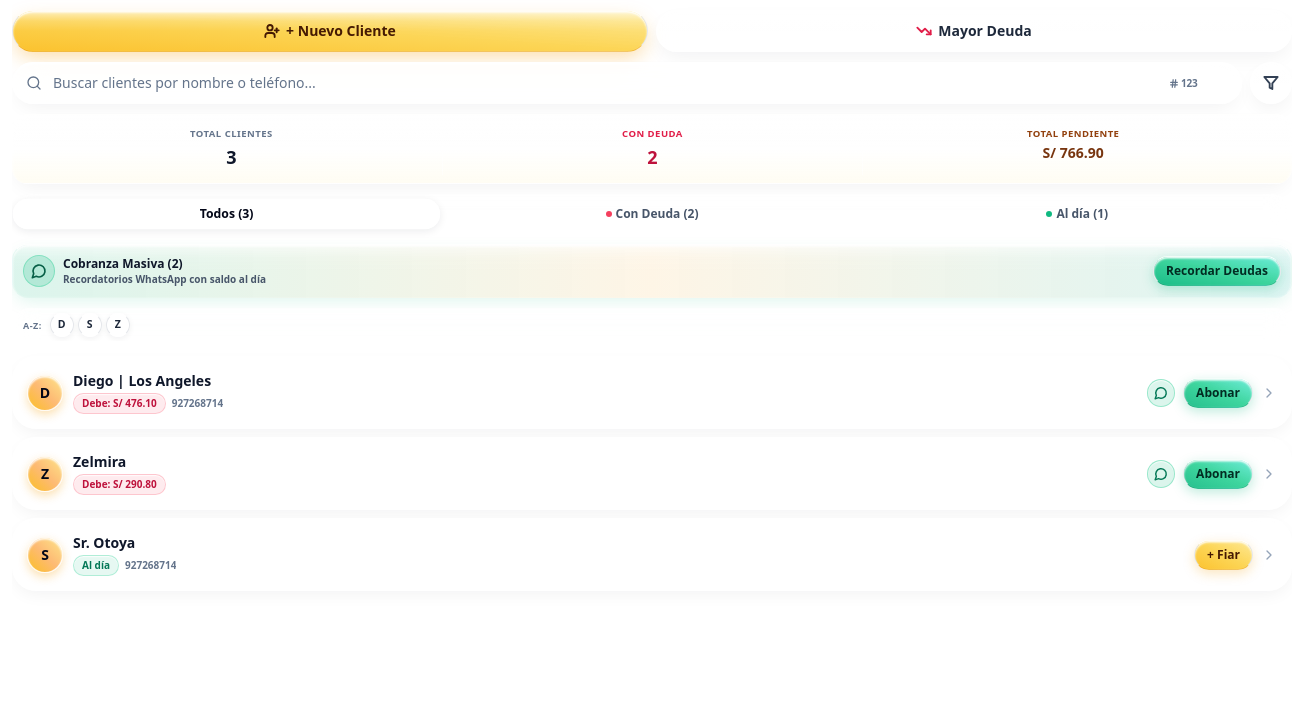
Scenario: CustomersPage Component (Strict TDD) › Tab Filters (Todos, Con Deuda, Al día) › filters only debtors when "Con Deuda" tab is active
expect the text "Diego | Los Angeles" is shown: met, box x1=73 y1=371 x2=223 y2=391
Click the button "Con Deuda (2)". click: (652, 214)
box: x1=442 y1=199 x2=862 y2=229
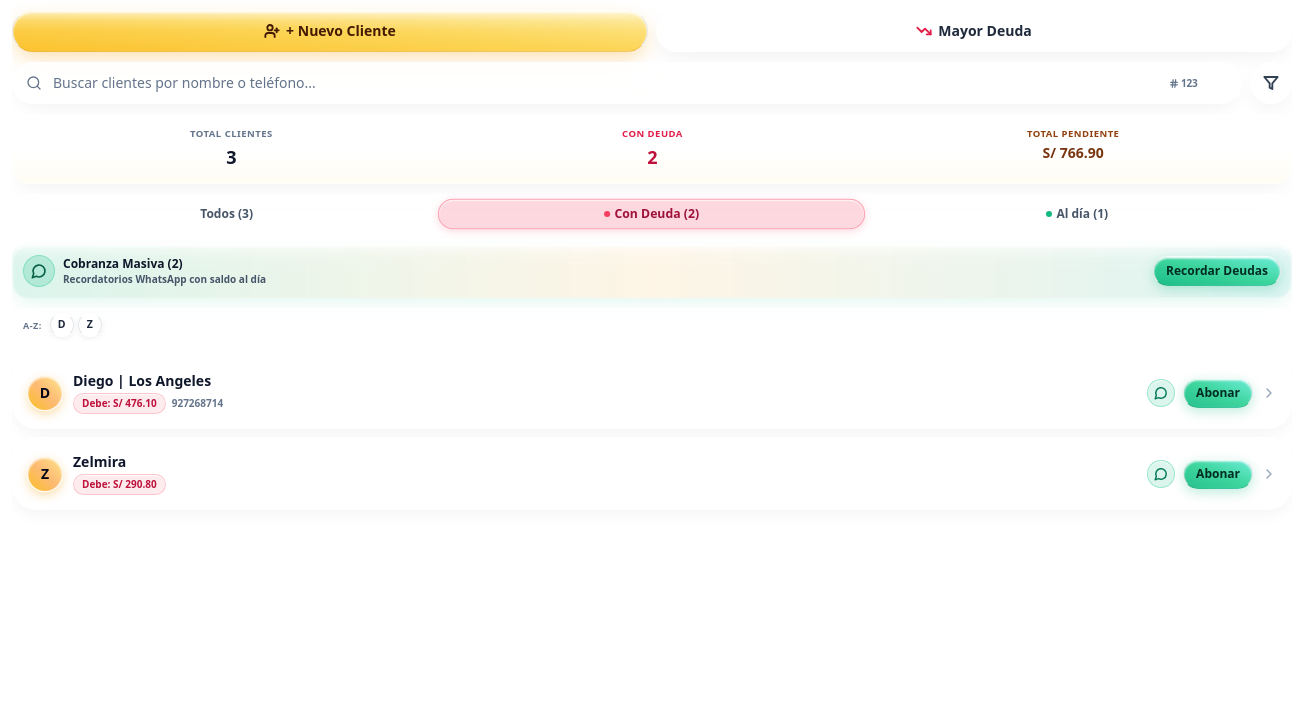
expect the text "Diego | Los Angeles" is shown: met, box x1=73 y1=371 x2=223 y2=391
expect the text "Sr. Otoya" is gone: met
